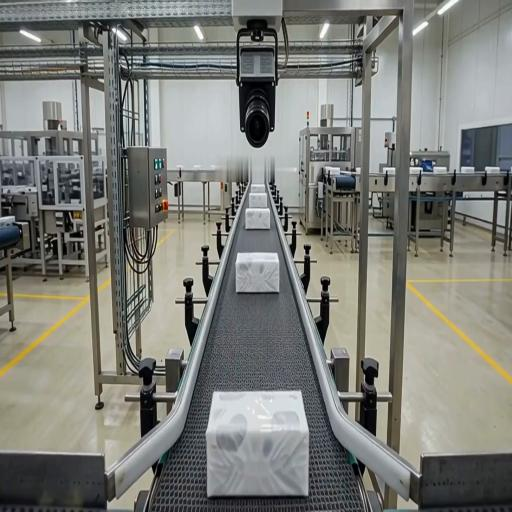good: (206, 389, 309, 497), (235, 251, 280, 293), (245, 207, 271, 230), (249, 192, 269, 208), (250, 183, 266, 192)
